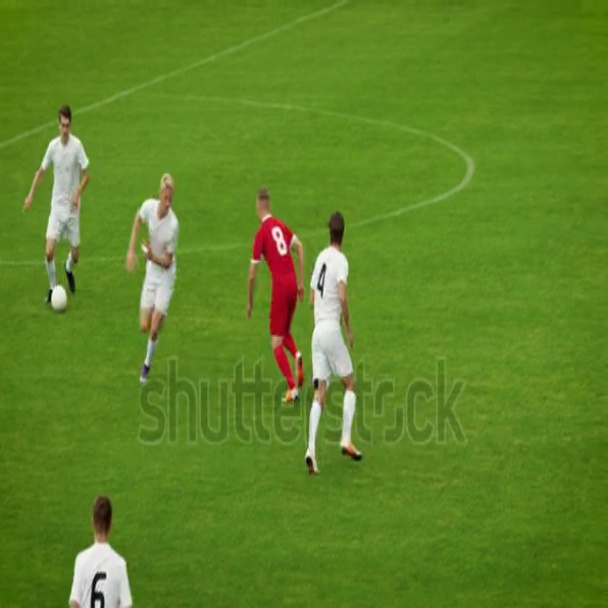ball: (51, 284, 68, 313)
